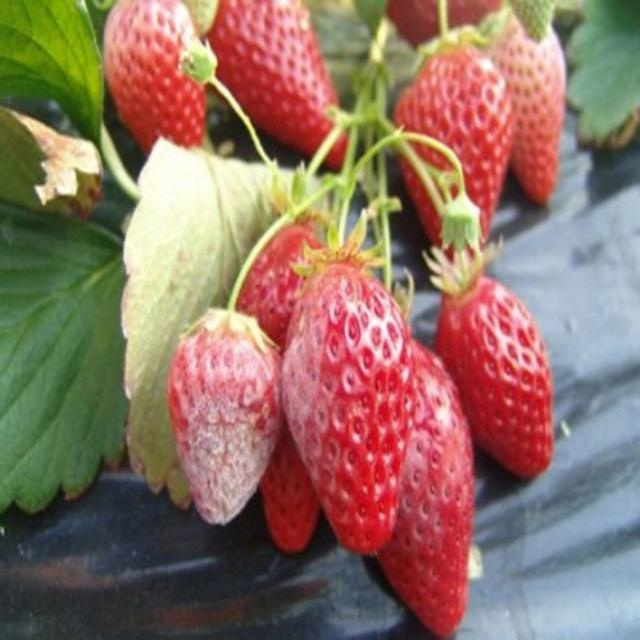Powdery Mildew Fruit: (279, 256, 419, 558), (164, 308, 285, 529)
